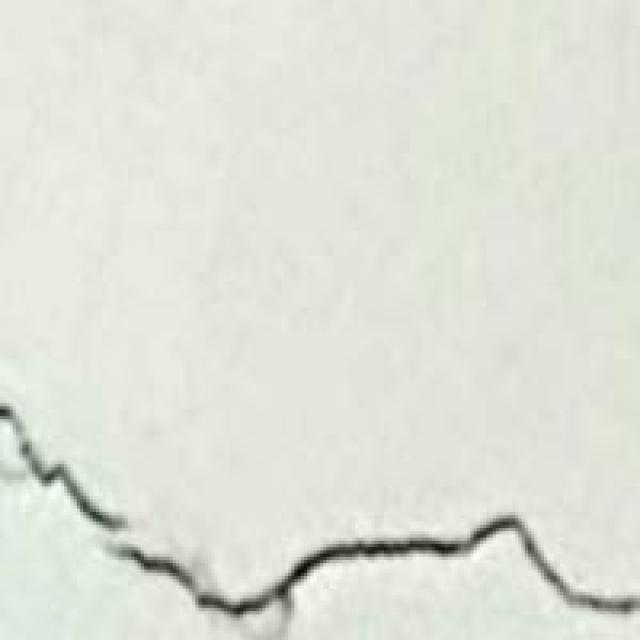crack: (0, 358, 637, 637)
